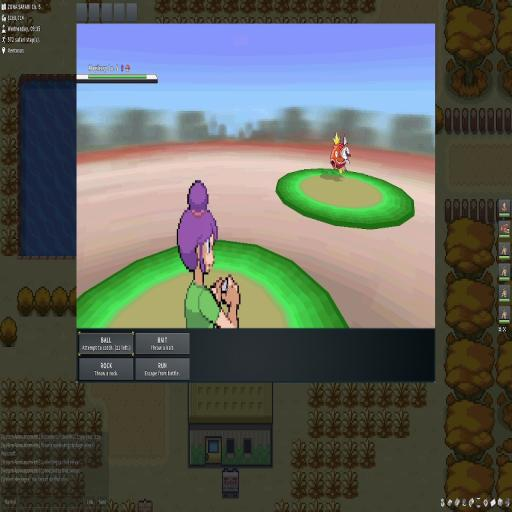FIGHTBAR: (78, 330, 190, 381)
MAGIKARP: (330, 131, 351, 177)
